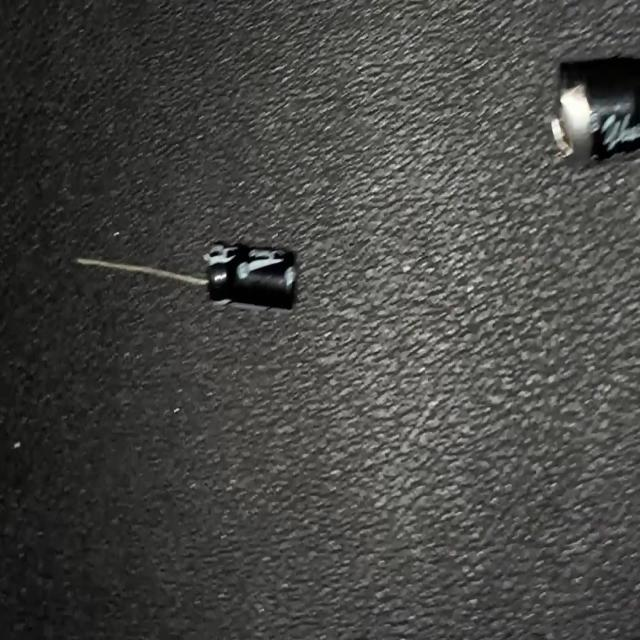capacitor: (541, 45, 640, 179)
cracked: (545, 82, 596, 173)
missing-leg: (74, 235, 301, 318)
